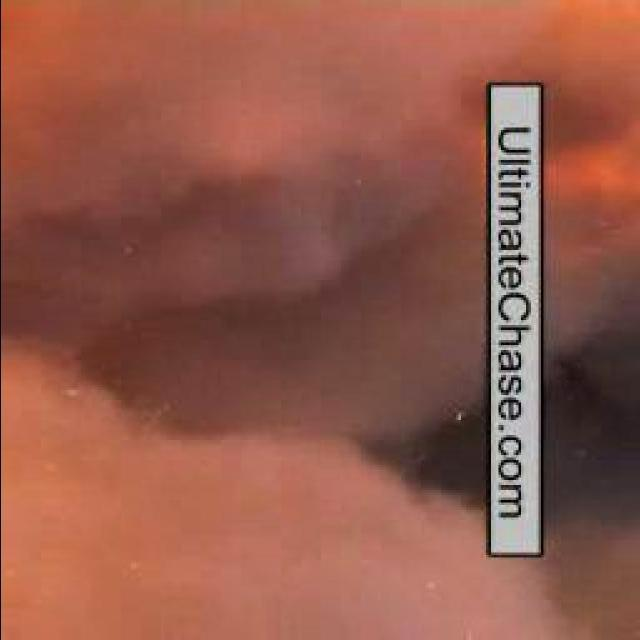Fire: (0, 4, 160, 138), (517, 1, 640, 94), (546, 119, 636, 238)
